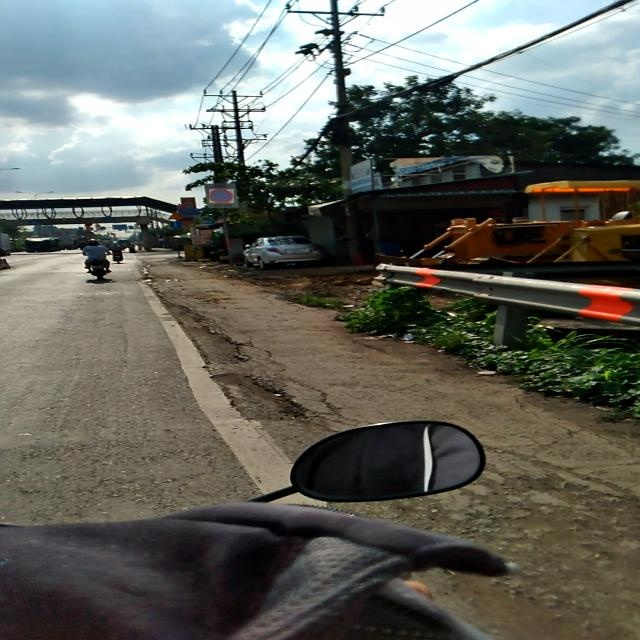bien_cam: (209, 189, 234, 203)
